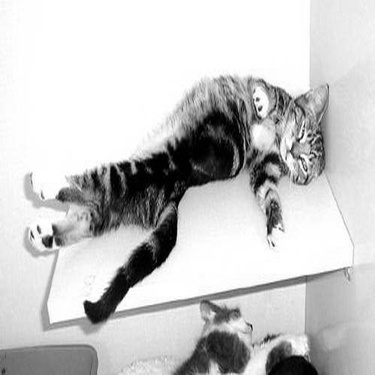cat: (27, 72, 331, 324), (172, 298, 252, 373), (264, 330, 319, 373)
